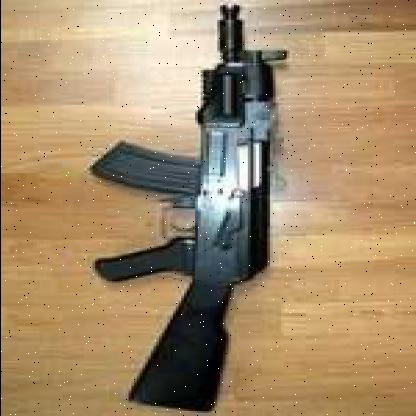rifle: (77, 3, 296, 413)
